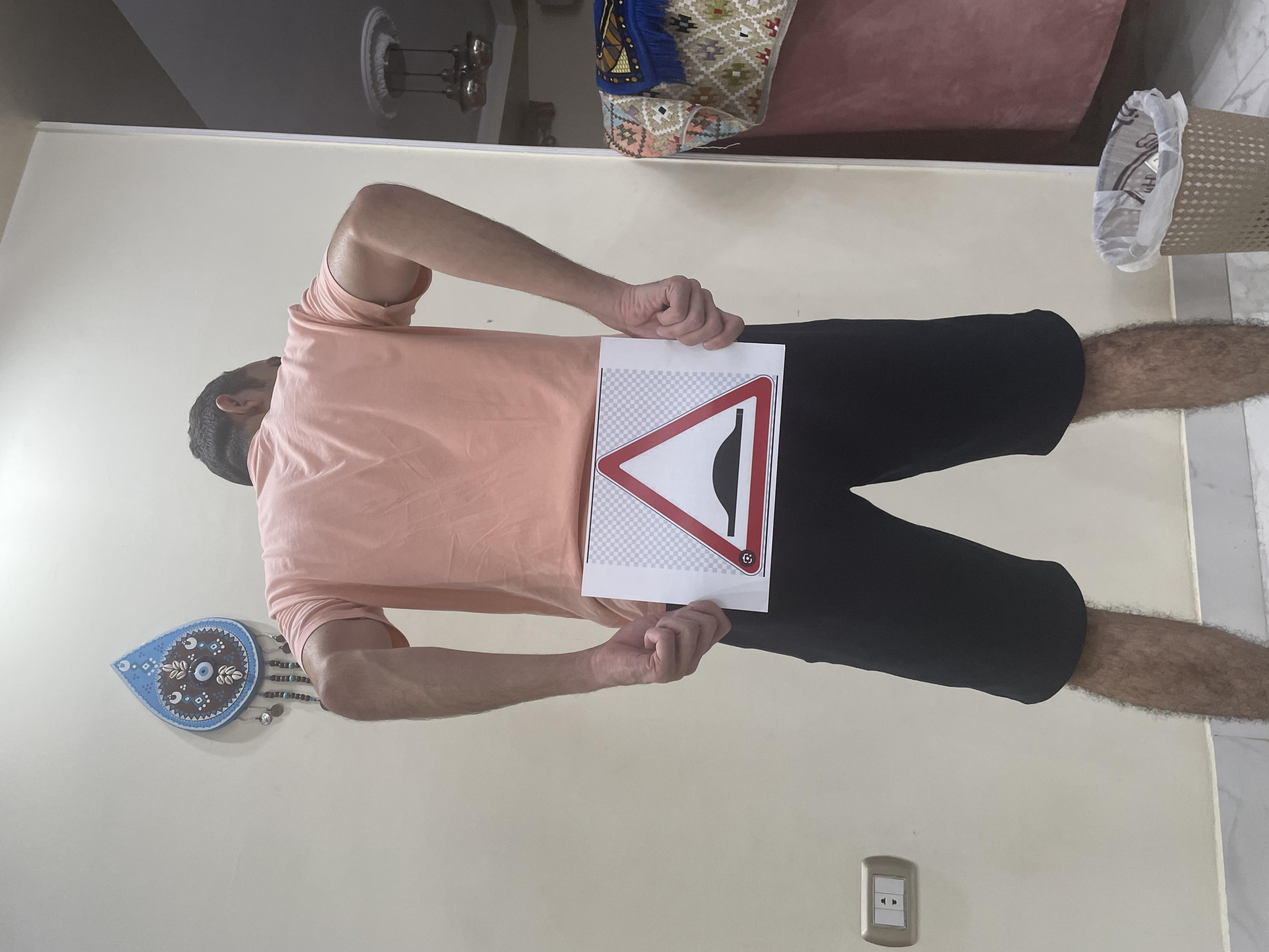Hump: (506, 449, 777, 577)
